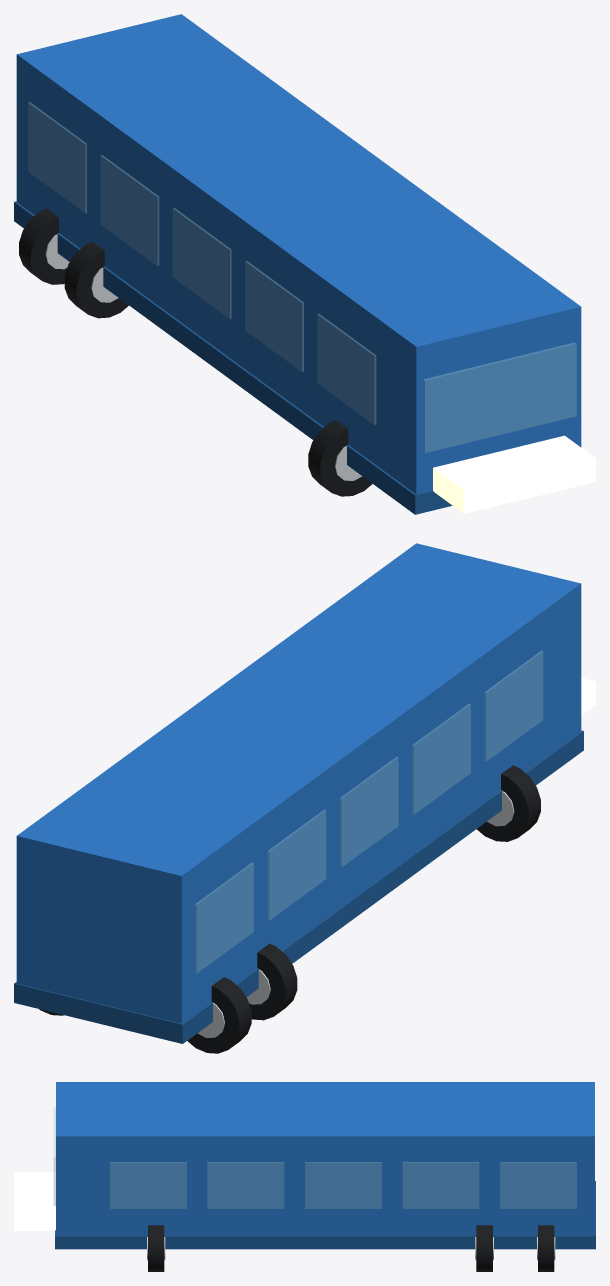
Rendered from bus.glb.
The picture shows the model from 3 angles, top to bottom: view 1: azimuth 30°, elevation 25°; view 2: azimuth 150°, elevation 25°; view 3: azimuth 270°, elevation 25°; orthographic projection. The views are drawn at different scales.
Parts seen in each view (by area): view 1: bus; view 2: bus; view 3: bus.
Part boxes in pixels (bbox=[...]): bus: bbox=[14, 14, 595, 514]; bus: bbox=[14, 543, 595, 1053]; bus: bbox=[14, 1082, 595, 1271].
Size of the model in its own units: 3.34 by 2.9 by 11.34.
